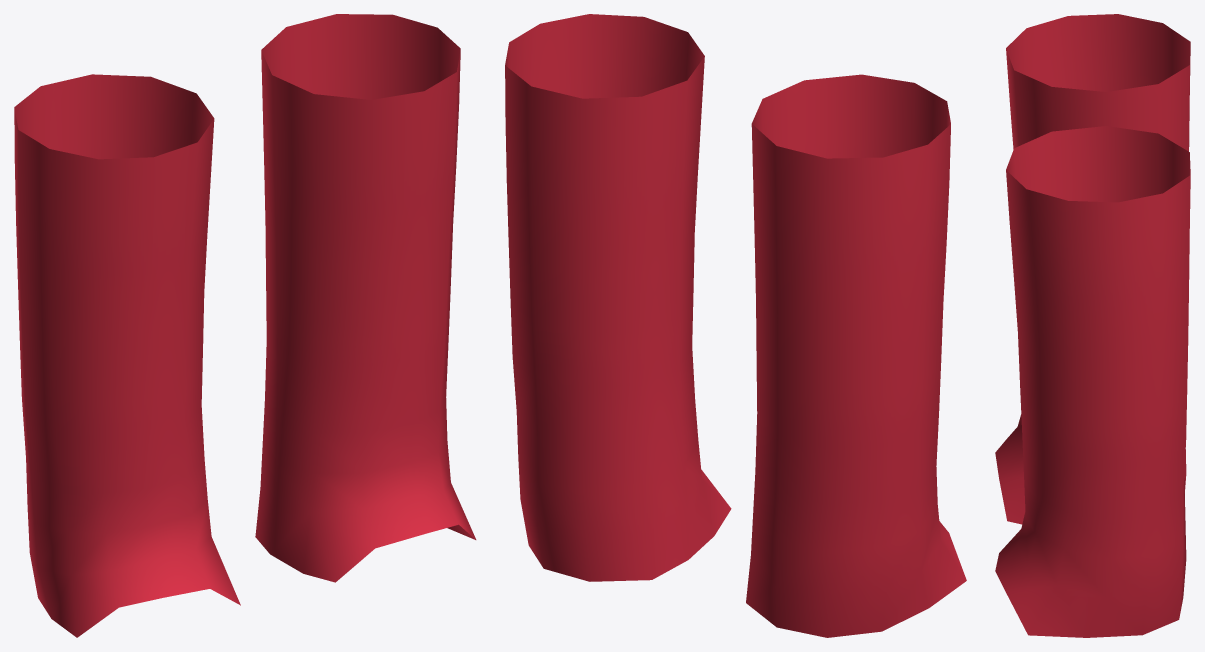
The model's file is socks_008.glb.
3 views of the same model, side by side, from view 1: azimuth 30°, elevation 25°; view 2: azimuth 150°, elevation 25°; view 3: azimuth 270°, elevation 25° (orthographic). The views are drawn at different scales.
Visible parts, largest first — view 1: Socks_008; view 2: Socks_008; view 3: Socks_008.
Boxes of the visible parts, x1=… form: Socks_008: x1=14, y1=14, x2=476, y2=637; Socks_008: x1=505, y1=14, x2=966, y2=637; Socks_008: x1=995, y1=14, x2=1190, y2=637.
Bounding box in the file's own units: 0.3477 × 0.3853 × 0.1524.
Materials: 1 (1 with a texture image).
